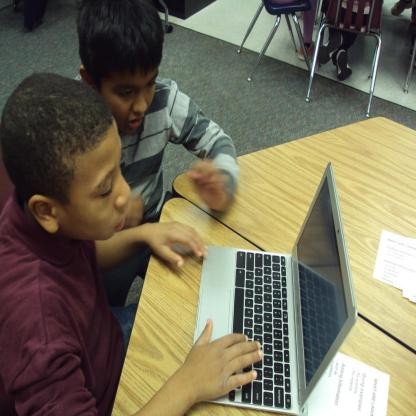board: (194, 160, 358, 416)
